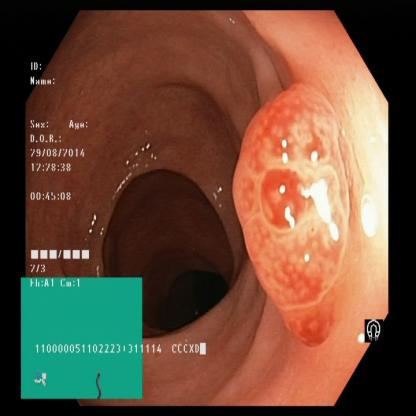Labels: (20, 280, 210, 400), (28, 55, 96, 278), (364, 319, 384, 343)
Polyps: (226, 88, 355, 340)
